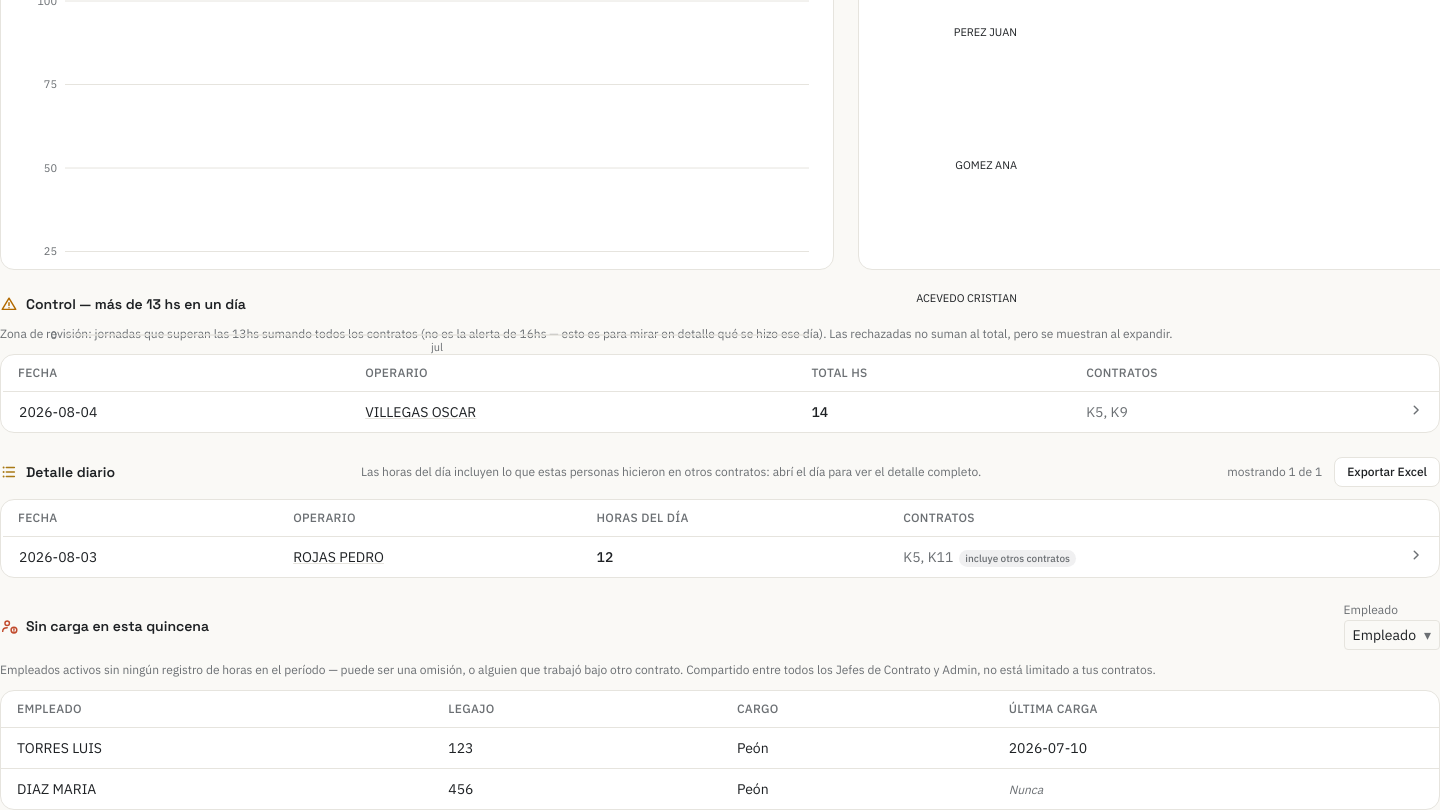
Test: ControlGeneralPage › al abrir el día se ven las horas, estado, tareas y observación de cada contrato
This screenshot has width=1440, height=810.
(page scrolled)
What coordinates should you click on to do the following:
click the button "ROJAS PEDRO"
I would click on:
 (339, 557)
Its box is top-left (293, 547), bottom-right (384, 567).
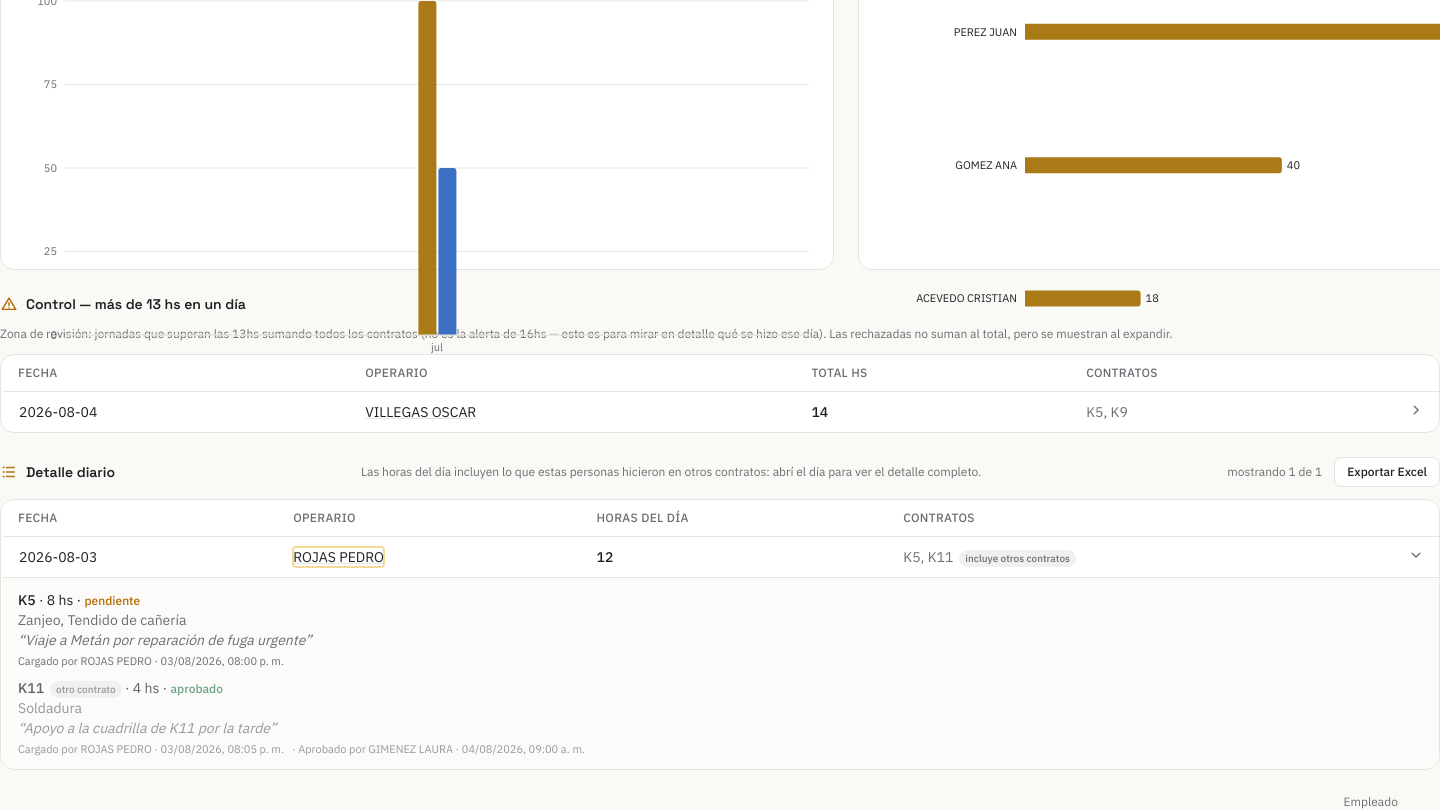
Now the text "“Viaje a Metán por reparación de fuga urgente”" is shown, box top-left (18, 631), bottom-right (312, 649)
Now the text "“Apoyo a la cuadrilla de K11 por la tarde”" is shown, box top-left (18, 719), bottom-right (276, 737)
Now the text "Zanjeo, Tendido de cañería" is shown, box top-left (18, 611), bottom-right (186, 629)
